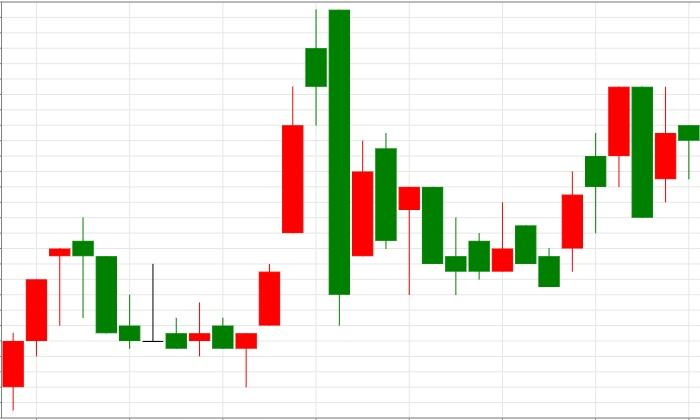bearish_engulfing_fall: (538, 86, 653, 287)
